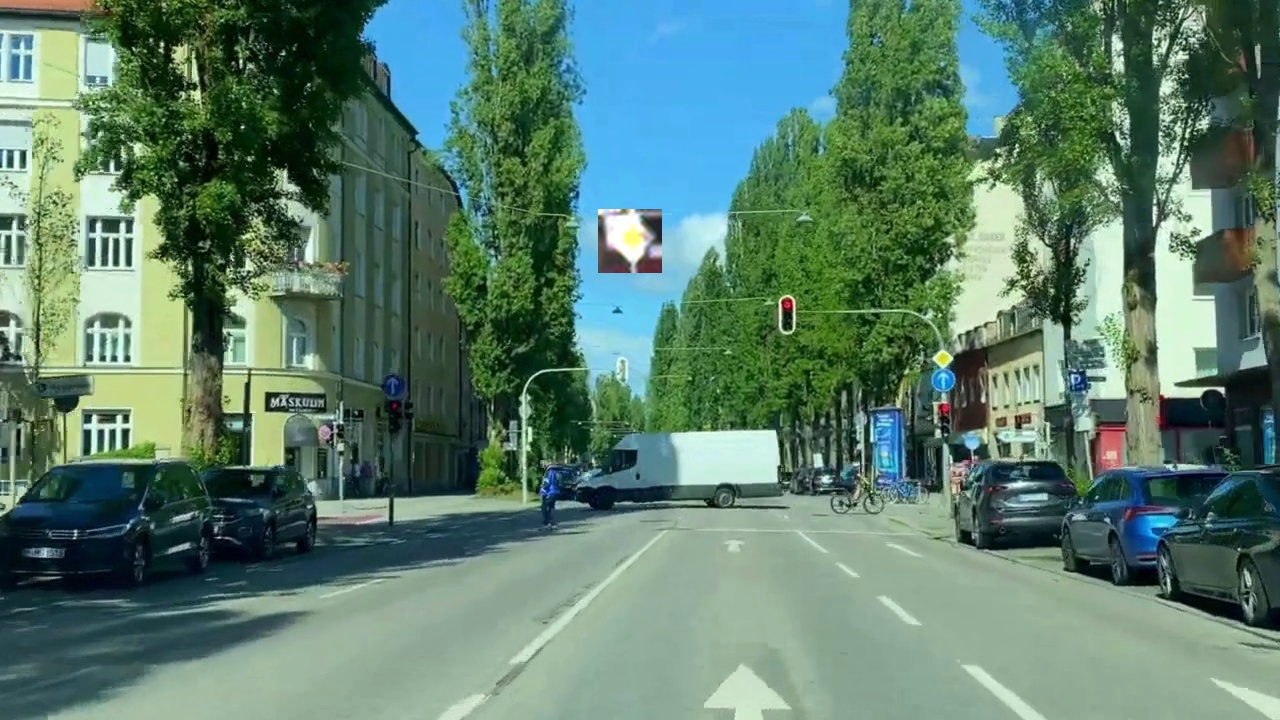Priority road: (598, 209, 662, 273)
